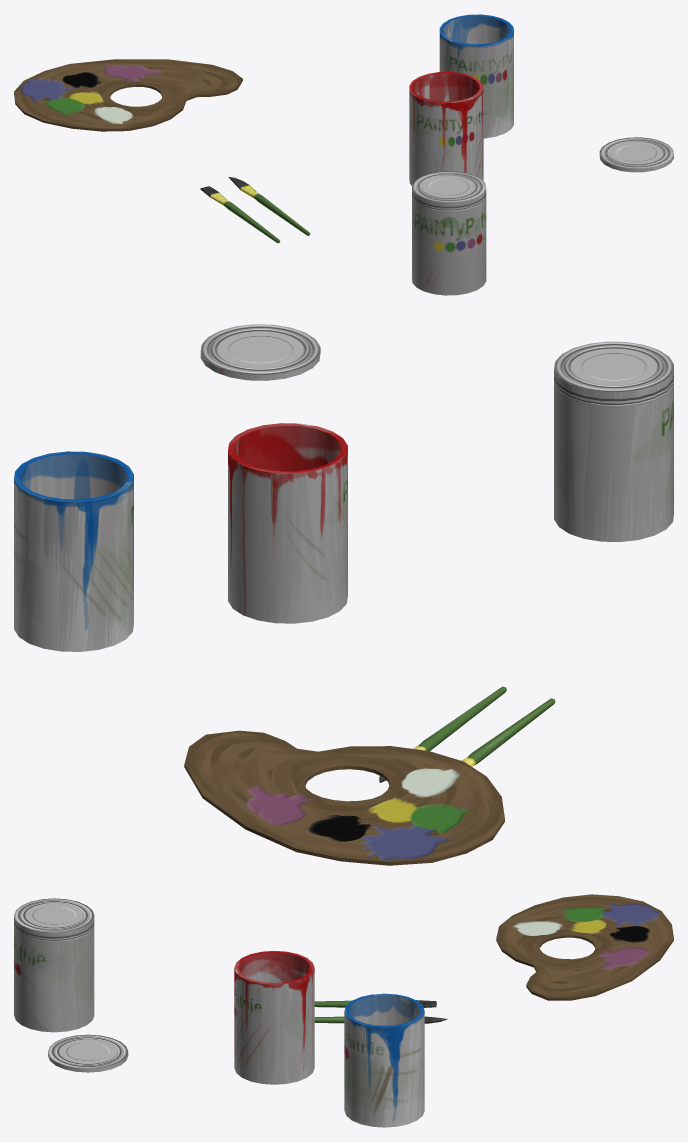
Rendered from painttools.fbx.
The picture shows the model from 3 angles, top to bottom: view 1: azimuth 30°, elevation 25°; view 2: azimuth 150°, elevation 25°; view 3: azimuth 270°, elevation 25°; orthographic projection. The views are drawn at different scales.
Parts seen in each view (by area): view 1: pCylinder44, pCylinder45, pCylinder46, pCylinder50, pCylinder47, pCylinder49, pCylinder48; view 2: pCylinder44, pCylinder46, pCylinder50, pCylinder45, pCylinder47, pCylinder49, pCylinder48; view 3: pCylinder44, pCylinder50, pCylinder45, pCylinder46, pCylinder47, pCylinder48.
Part boxes in pixels (x1=…): pCylinder44: x1=14, y1=59, x2=242, y2=131; pCylinder45: x1=412, y1=171, x2=486, y2=295; pCylinder46: x1=409, y1=71, x2=483, y2=185; pCylinder50: x1=439, y1=14, x2=513, y2=138; pCylinder47: x1=599, y1=137, x2=673, y2=172; pCylinder49: x1=228, y1=177, x2=310, y2=235; pCylinder48: x1=200, y1=186, x2=280, y2=243; pCylinder44: x1=184, y1=730, x2=504, y2=865; pCylinder46: x1=228, y1=423, x2=347, y2=623; pCylinder50: x1=14, y1=451, x2=133, y2=651; pCylinder45: x1=554, y1=341, x2=673, y2=541; pCylinder47: x1=200, y1=324, x2=320, y2=380; pCylinder49: x1=379, y1=686, x2=506, y2=782; pCylinder48: x1=461, y1=698, x2=555, y2=766; pCylinder44: x1=496, y1=894, x2=673, y2=1000; pCylinder50: x1=344, y1=993, x2=424, y2=1127; pCylinder45: x1=14, y1=898, x2=94, y2=1032; pCylinder46: x1=234, y1=951, x2=314, y2=1084; pCylinder47: x1=48, y1=1034, x2=128, y2=1072; pCylinder48: x1=314, y1=1000, x2=436, y2=1007.
Bounding box in the file's own units: 137 × 37.51 × 177.
